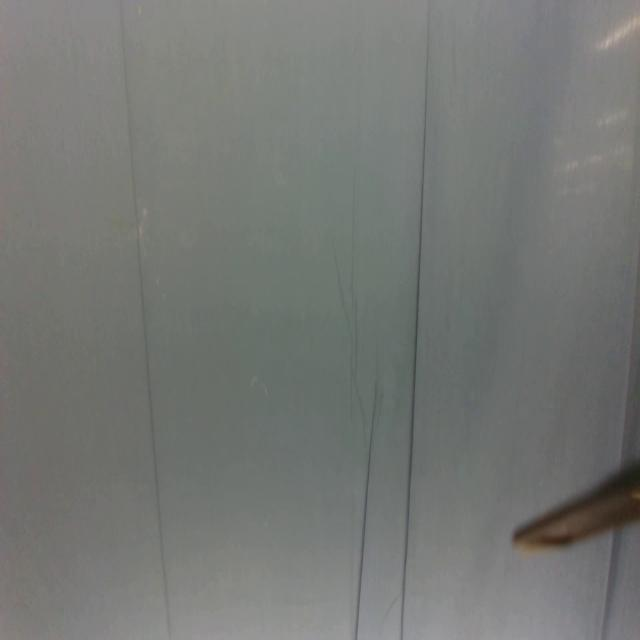crease: (120, 1, 174, 639), (399, 0, 430, 639), (353, 388, 377, 640), (619, 253, 640, 461), (598, 530, 617, 640)
